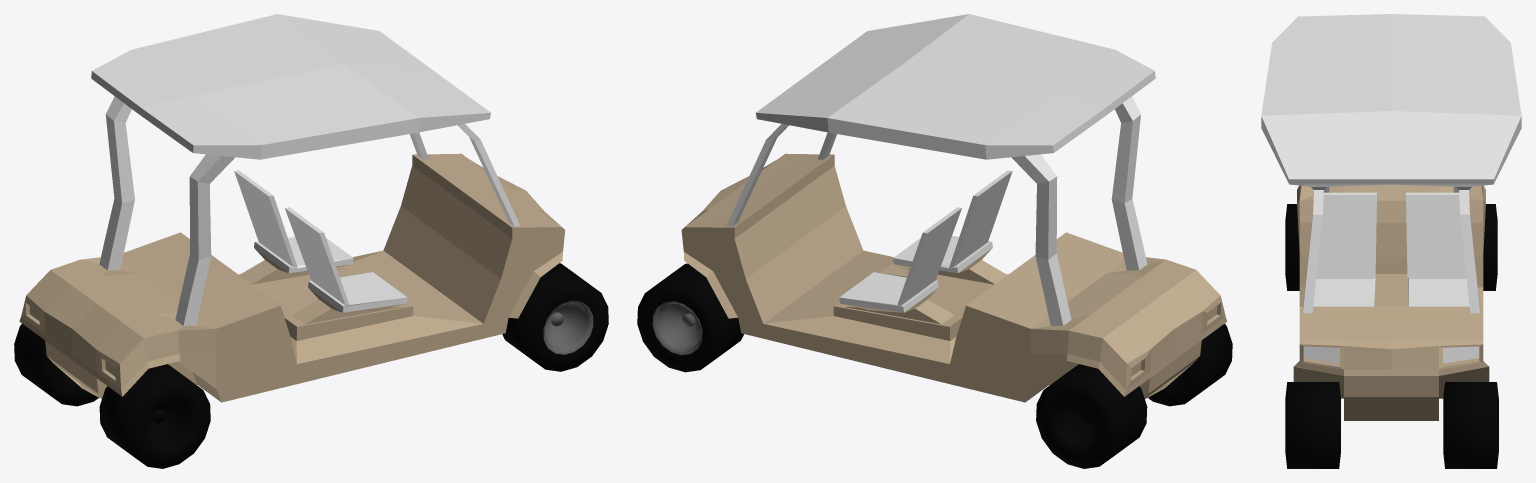
File: golfcart.gltf
3 renders of one model, left to right at view 1: azimuth 30°, elevation 25°; view 2: azimuth 150°, elevation 25°; view 3: azimuth 270°, elevation 25°, orthographic. The views are drawn at different scales.
Visible parts, largest first — view 1: Body, RRTire, FRTire, RLTIRE; view 2: Body, RLTIRE, FLTire, RRTire; view 3: Body, FLTire, FRTire, RLTIRE, RRTire.
Boxes of the visible parts, x1,y1,x2,y2 form: Body: [19, 14, 565, 402]; RRTire: [99, 364, 210, 468]; FRTire: [502, 263, 608, 371]; RLTIRE: [14, 323, 98, 406]; Body: [681, 14, 1227, 402]; RLTIRE: [1036, 364, 1147, 468]; FLTire: [637, 263, 743, 372]; RRTire: [1148, 323, 1232, 406]; Body: [1261, 14, 1521, 420]; FLTire: [1443, 382, 1498, 468]; FRTire: [1285, 382, 1340, 468]; RLTIRE: [1483, 204, 1497, 290]; RRTire: [1285, 204, 1299, 290].
Size of the model in its own units: 414 by 256 by 211.
